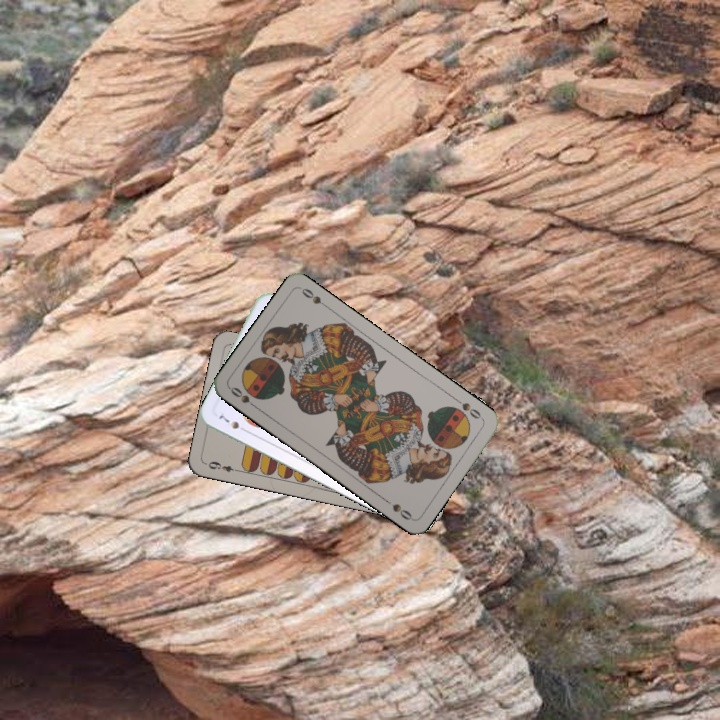E9: (202, 457, 242, 475)
S7: (215, 411, 250, 435)
SO: (449, 394, 486, 423), (226, 383, 261, 412)
